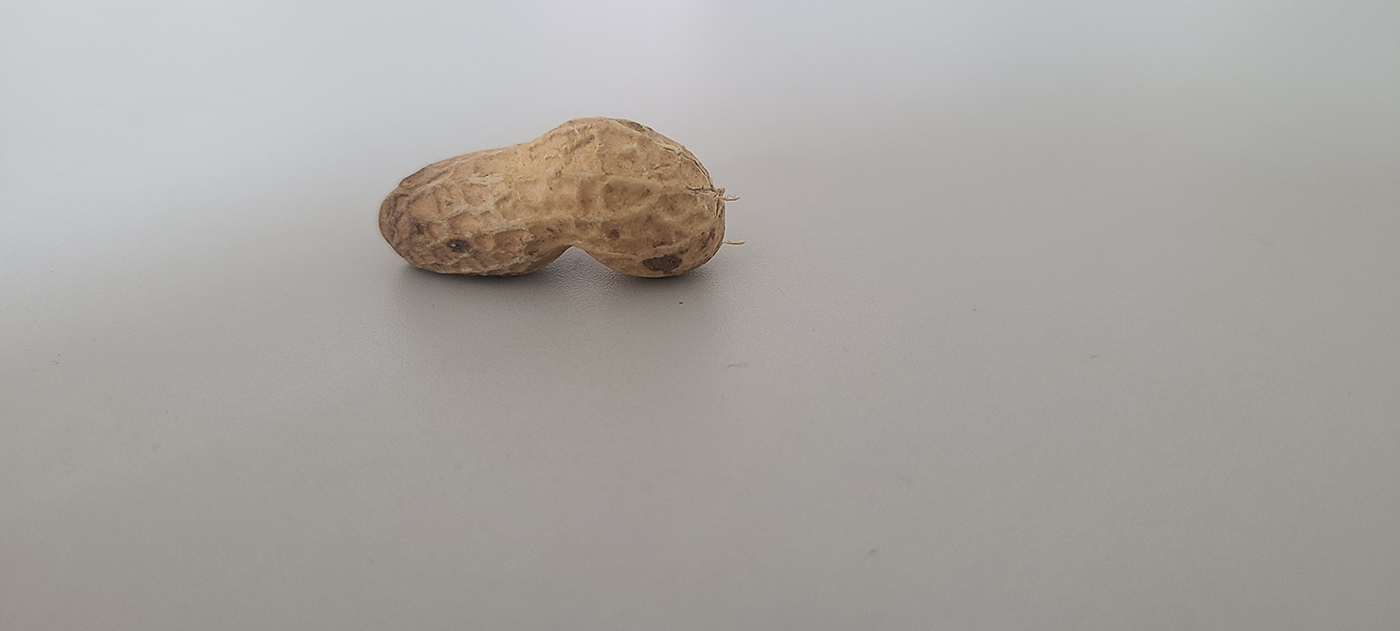h: (379, 111, 727, 280)
